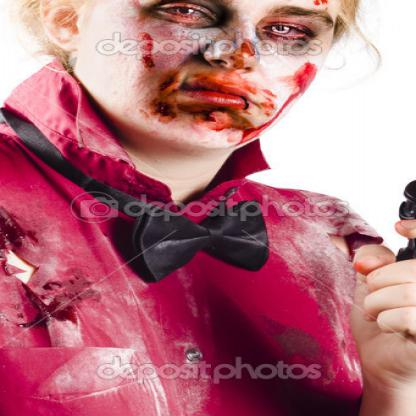gun: (361, 125, 415, 292)
